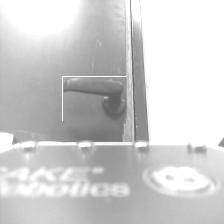Door Handle: (62, 76, 127, 121)
